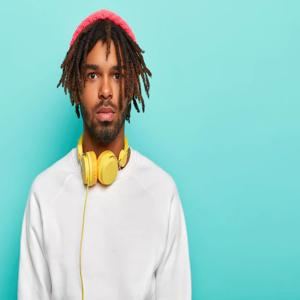Headphones: (74, 123, 133, 188)
